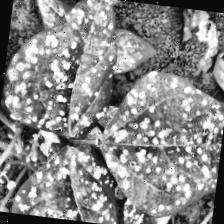Bean Rust: (89, 64, 224, 222), (0, 0, 120, 141), (7, 137, 127, 224), (119, 196, 157, 224)
